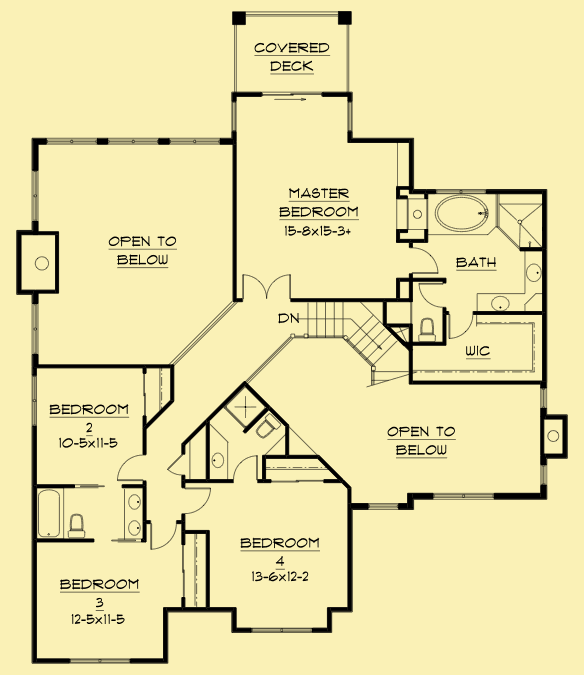door: (239, 270, 294, 304), (178, 482, 216, 519), (112, 452, 149, 485), (146, 517, 178, 552), (229, 451, 261, 485), (416, 280, 449, 310), (446, 308, 477, 339), (165, 451, 186, 477)
large sink: (412, 312, 439, 345), (62, 508, 88, 539)
small sink: (119, 487, 146, 538), (204, 427, 229, 482), (474, 291, 527, 314), (522, 251, 545, 295)
stairs: (275, 298, 409, 396)
tub: (424, 189, 494, 236), (34, 486, 64, 540)
windows: (42, 134, 226, 151), (425, 487, 499, 505), (23, 164, 44, 227), (64, 652, 136, 669), (246, 621, 318, 637), (26, 372, 41, 432), (30, 297, 42, 361), (361, 499, 405, 515), (341, 97, 358, 137), (534, 384, 551, 414)
